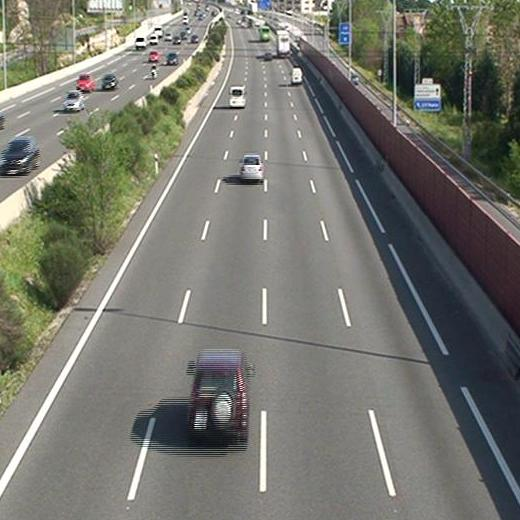bus: (258, 27, 270, 42)
car: (189, 351, 247, 444), (241, 153, 262, 180), (264, 51, 272, 62)
truck: (277, 29, 290, 56)
van: (228, 86, 244, 108), (290, 67, 302, 84)
